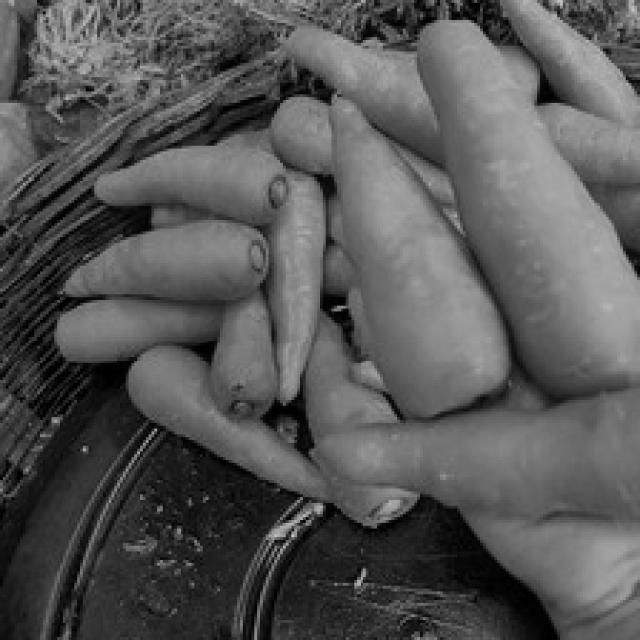Fresh_Carrot: (401, 11, 640, 391), (323, 81, 503, 394), (323, 420, 640, 514)
